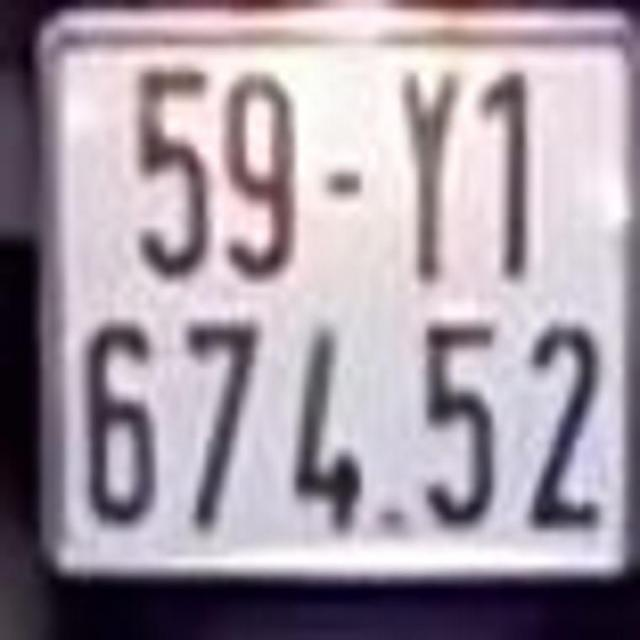1: (471, 59, 534, 280)
2: (526, 314, 606, 524)
4: (284, 321, 368, 530)
5: (130, 56, 210, 280), (416, 310, 499, 524)
6: (80, 311, 160, 524)
7: (176, 310, 260, 530)
9: (218, 62, 299, 284)
Y: (393, 62, 464, 290)
